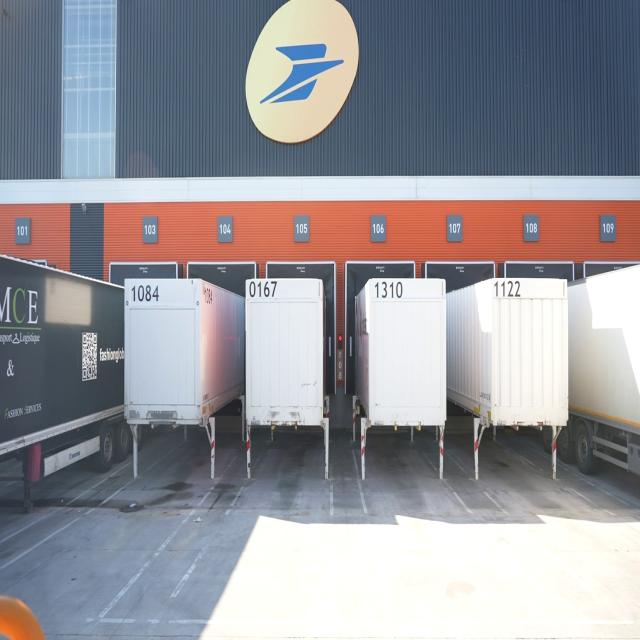Code: (126, 279, 162, 305), (491, 276, 523, 304), (372, 277, 405, 303), (247, 277, 280, 302)
